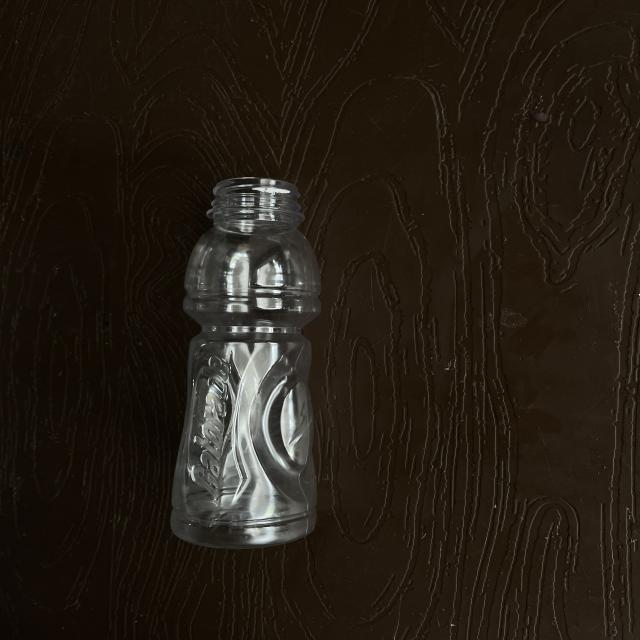PET_ClearBottle: (159, 173, 453, 558)
